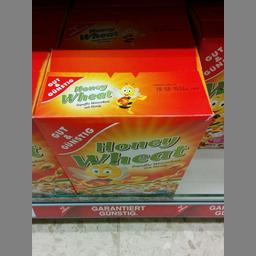cereal: (28, 47, 214, 201)
